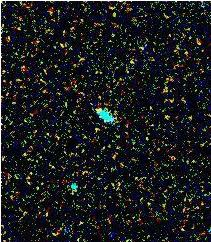star: (83, 95, 113, 125)
